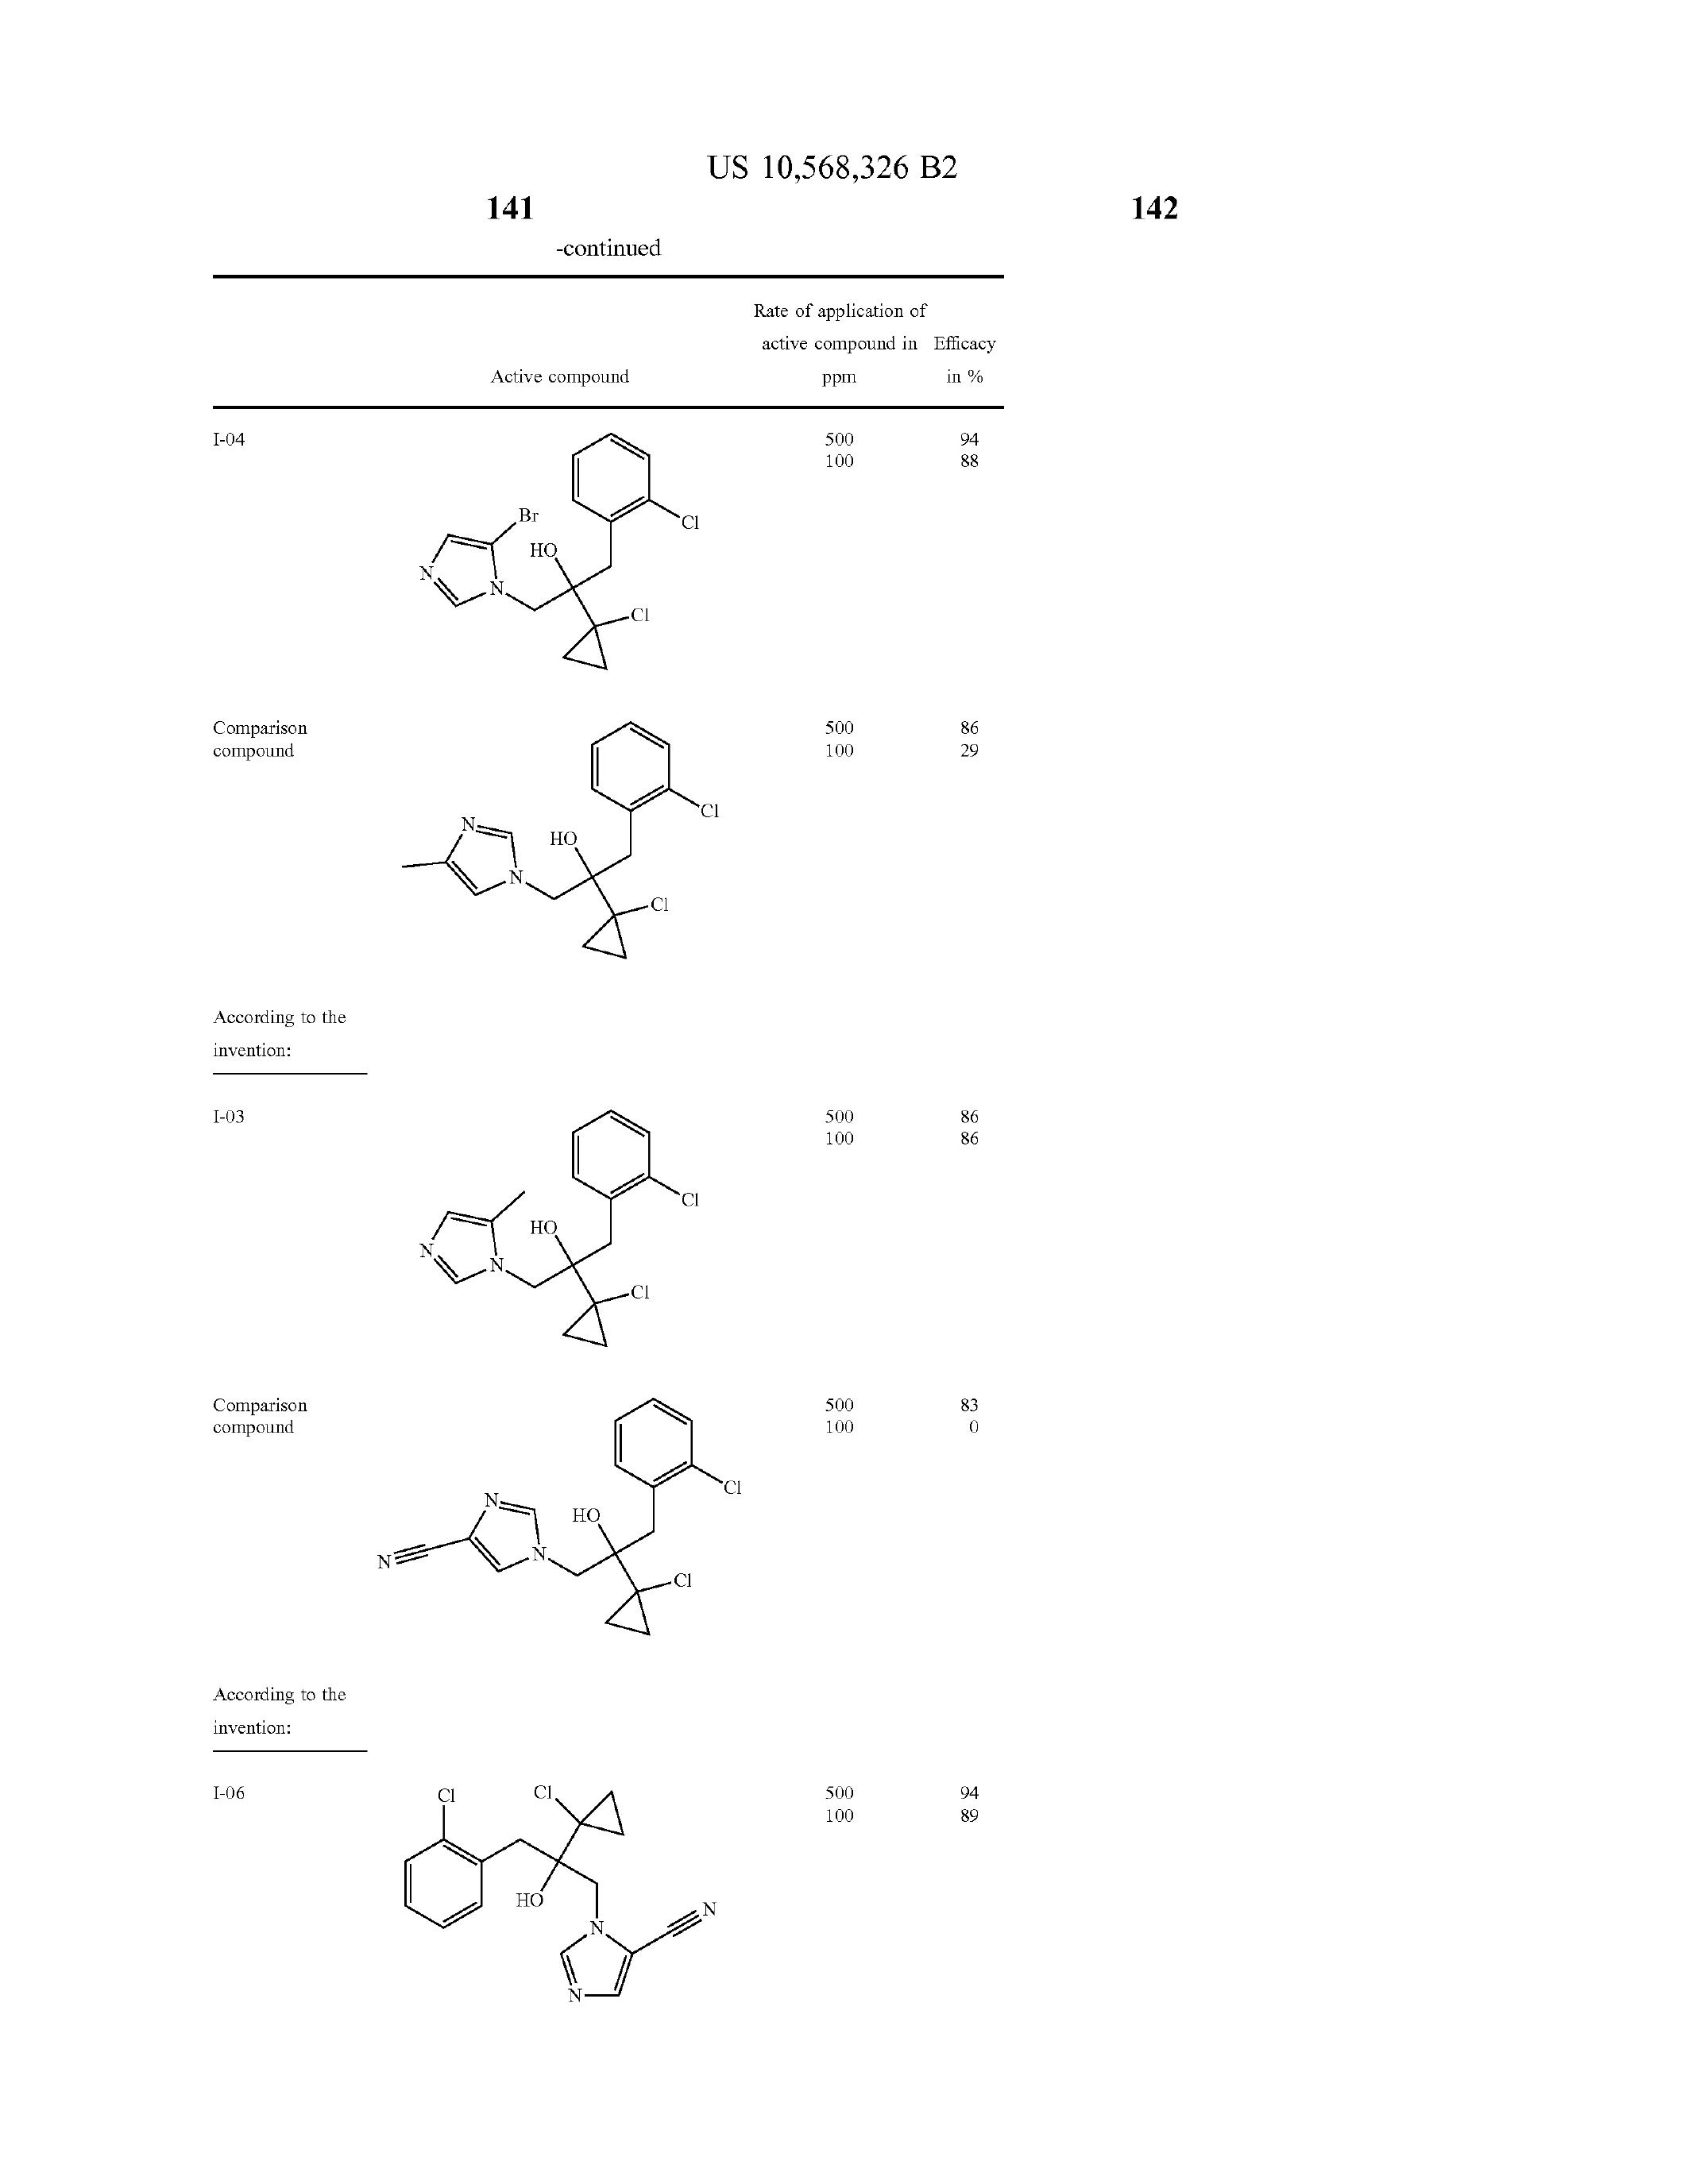relevant-structures: (388, 1743, 803, 2092), (358, 1055, 777, 1365), (349, 704, 782, 984), (324, 411, 773, 674), (351, 1397, 793, 1647)
